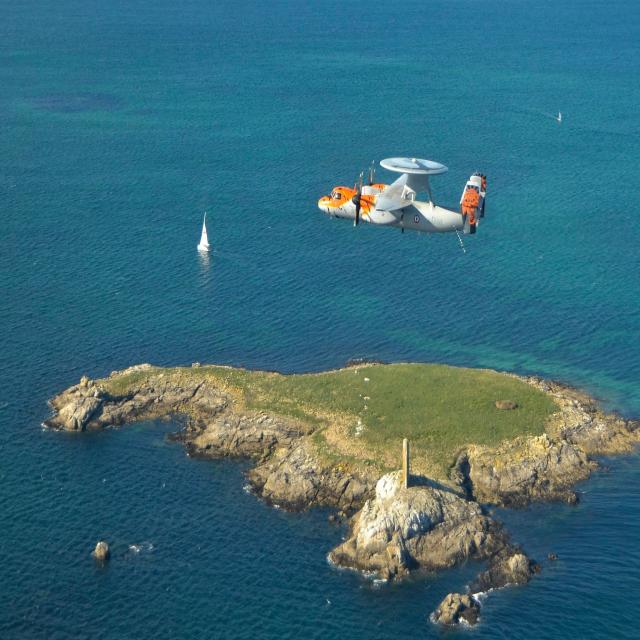MIL_Plane: (318, 157, 486, 254)
